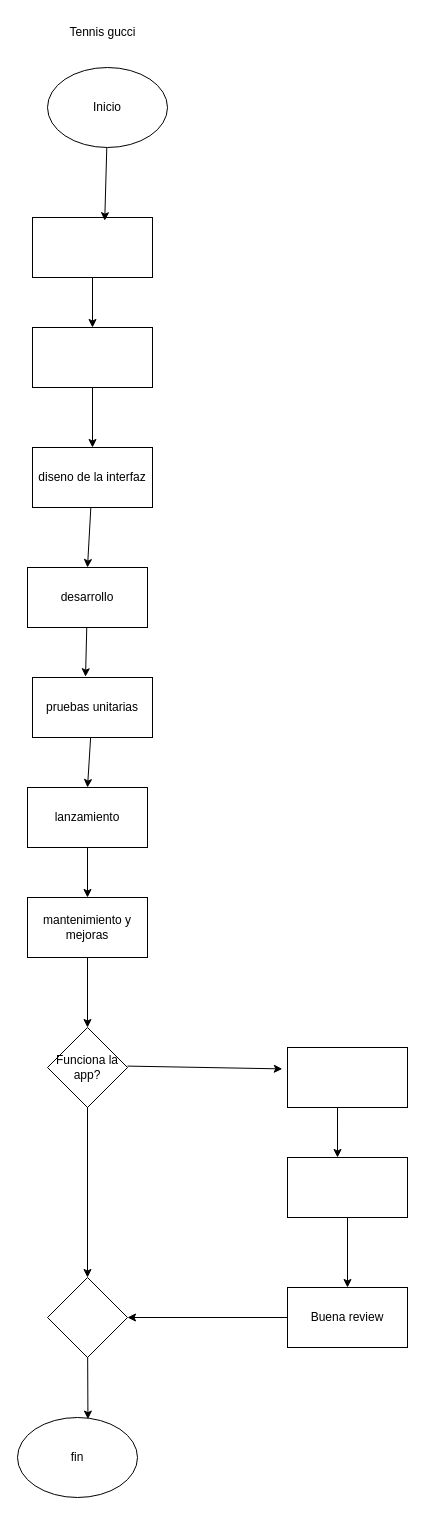
Some shapes in this 425 by 1515 pixel diagram are drawn without their labels. Each missing label, with the centre of its shape:
analisis ded requerimientos: (x=92, y=357)
definir objetivo de la app: (x=92, y=247)
Funciona la app: (x=87, y=1317)
No funciona: (x=347, y=1077)
Nueva solucion: (x=347, y=1187)
